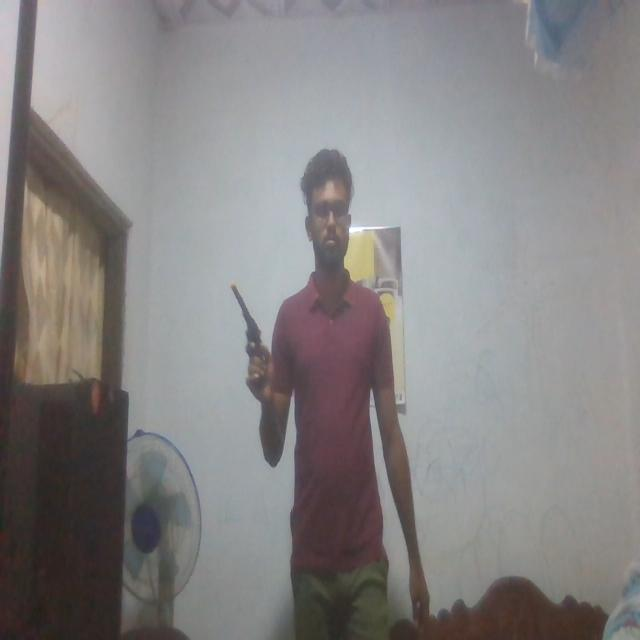Gun_Holder: (230, 281, 272, 381)
Person: (250, 143, 430, 640)
